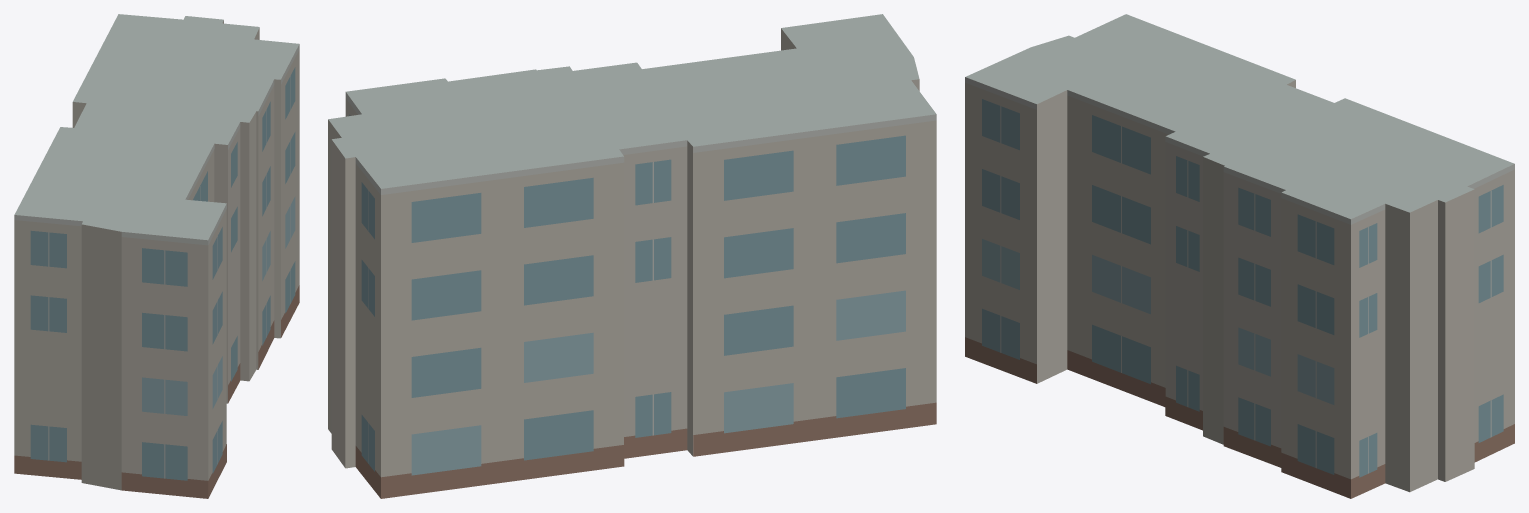
The model's file is survey-upis-32932721.glb.
3 views of the same model, side by side, from view 1: azimuth 30°, elevation 25°; view 2: azimuth 150°, elevation 25°; view 3: azimuth 270°, elevation 25° (orthographic). The views are drawn at different scales.
Visible parts, largest first — view 1: survey-upis-32932721.tmp; view 2: survey-upis-32932721.tmp; view 3: survey-upis-32932721.tmp.
Boxes of the visible parts, x1=… form: survey-upis-32932721.tmp: x1=14, y1=14, x2=299, y2=498; survey-upis-32932721.tmp: x1=328, y1=14, x2=936, y2=498; survey-upis-32932721.tmp: x1=965, y1=14, x2=1514, y2=498.
Size of the model in its own units: 19.22 by 12.2 by 21.75.
